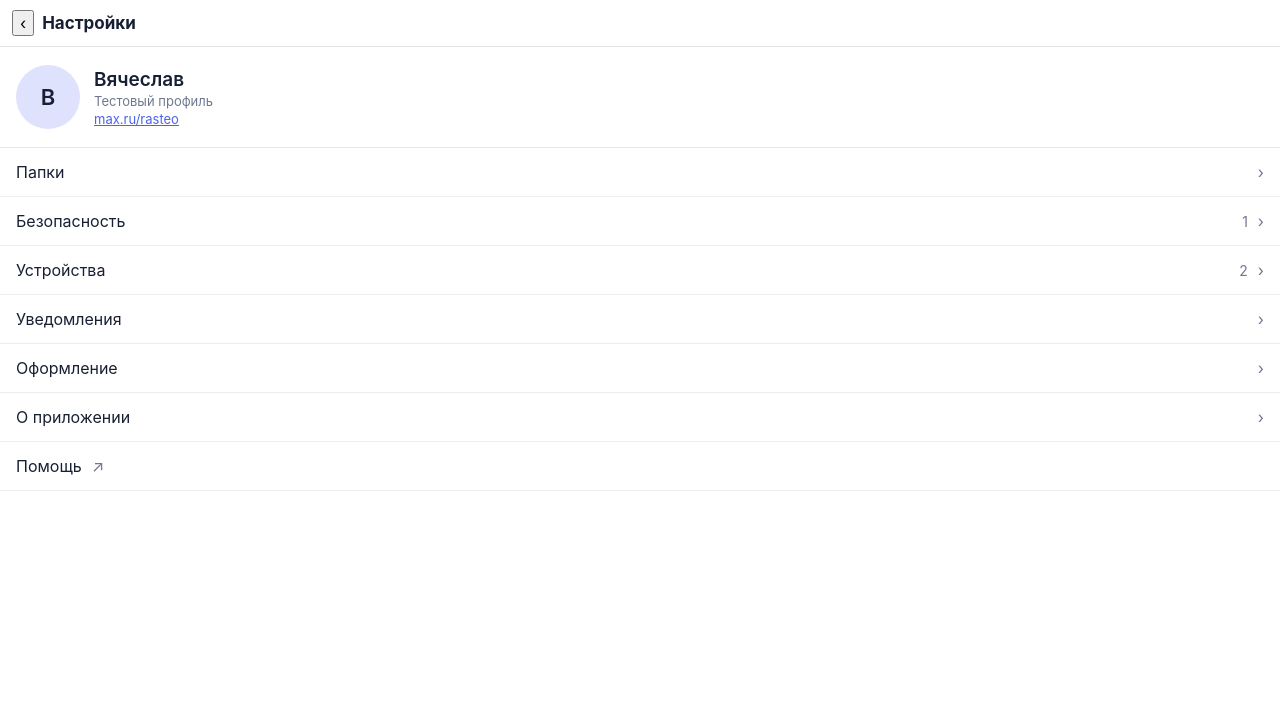
Test: settings screen › shows the blocked list under security
Click the button "Безопасность 1 ›": (71, 221) [0,197,1279,246]
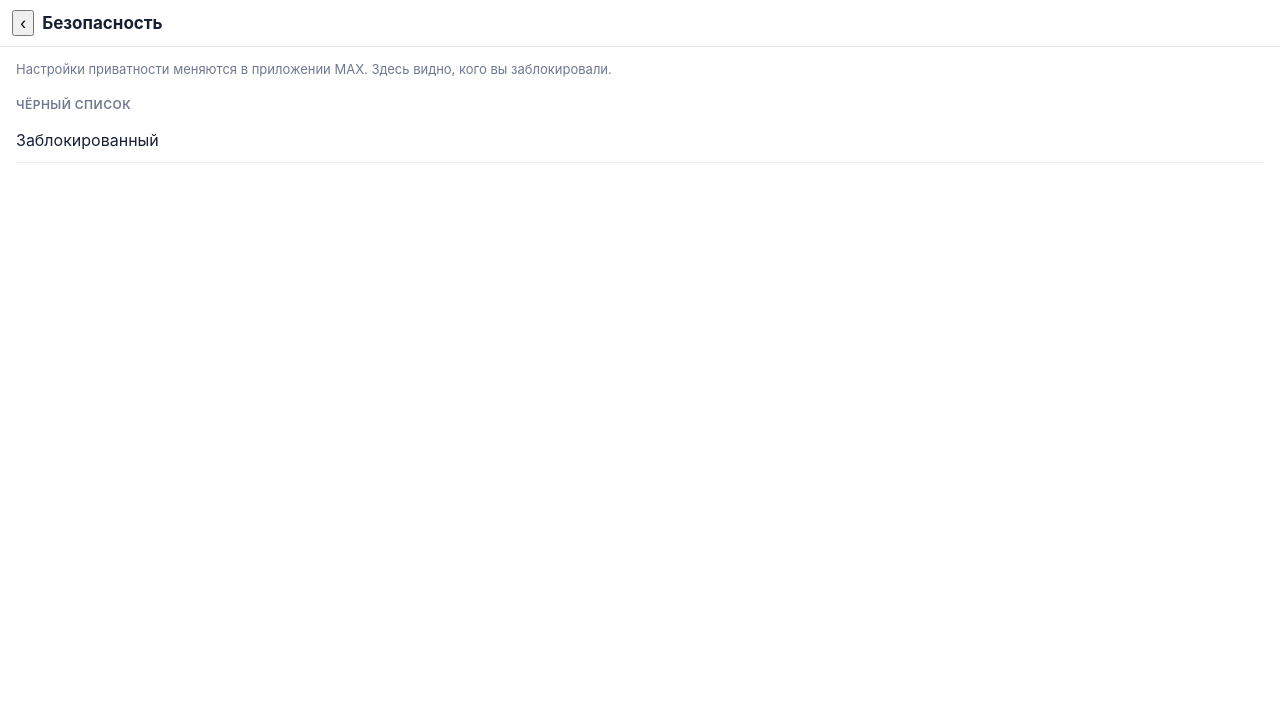
Now the list item "Заблокированный" is shown, box [16,118,1264,163]
